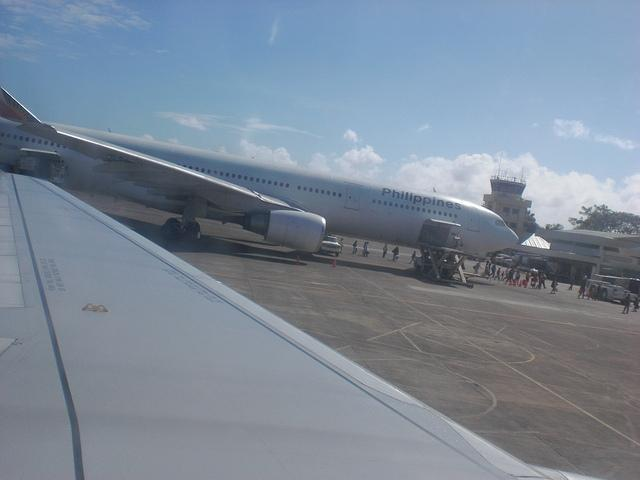car: (319, 236, 342, 258)
truck: (585, 279, 637, 301)
